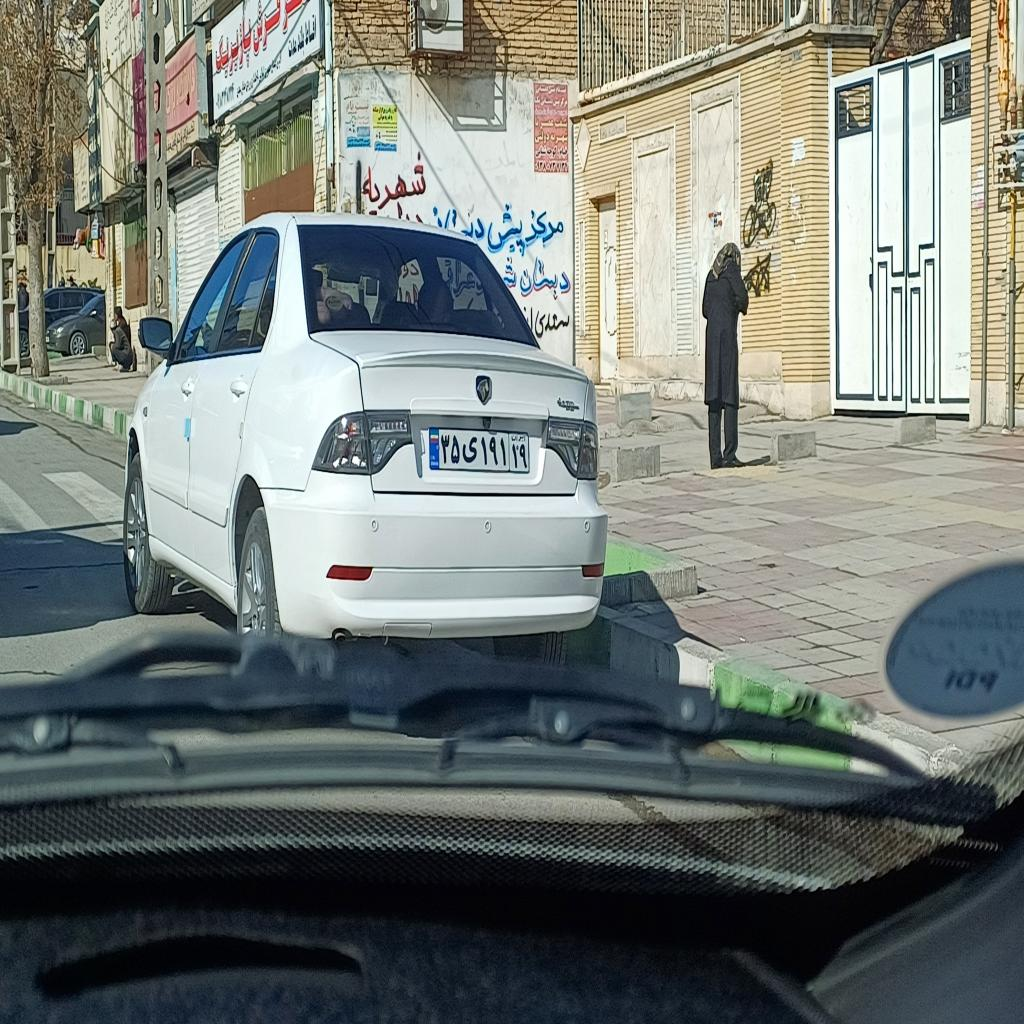Plates: (428, 427, 530, 474)
